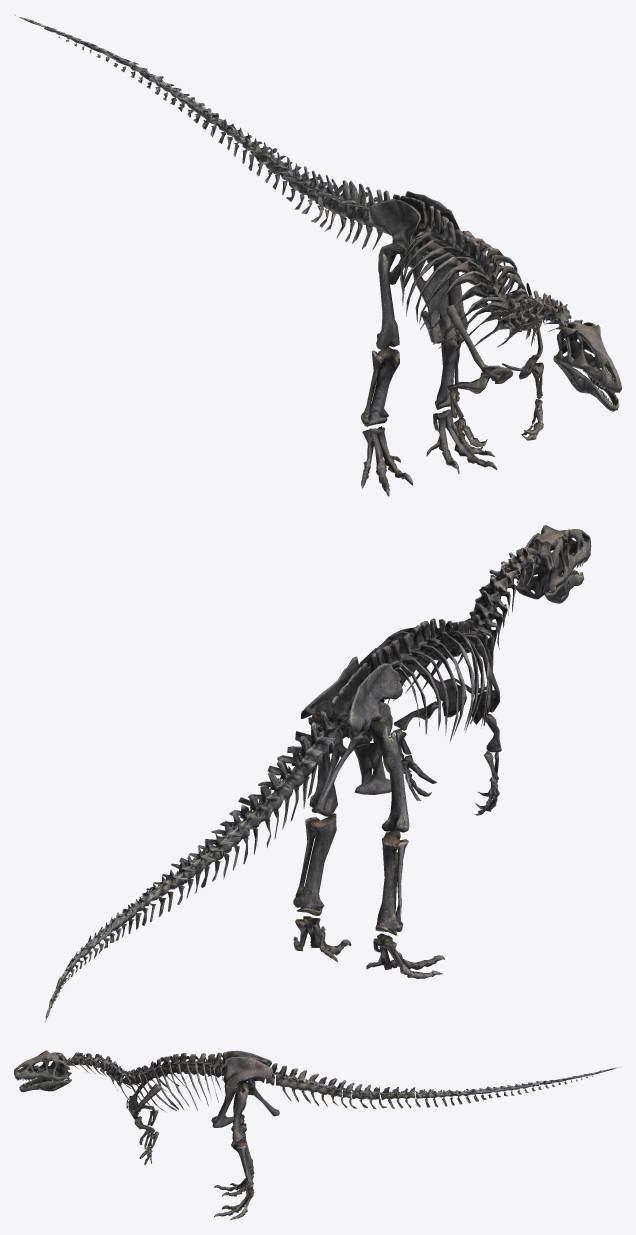
Rendered from dino.glb.
3 renders of one model, top to bottom at view 1: azimuth 30°, elevation 25°; view 2: azimuth 150°, elevation 25°; view 3: azimuth 270°, elevation 25°, orthographic. The views are drawn at different scales.
Visible parts, largest first — view 1: Object_4, Object_3, Object_9, Object_2, Object_7, Object_13; view 2: Object_4, Object_9, Object_3, Object_2, Object_7, Object_13; view 3: Object_9, Object_4, Object_3, Object_2, Object_7, Object_13.
Part boxes in pixels (x1=…): Object_4: x1=361, y1=242, x2=543, y2=496; Object_3: x1=400, y1=205, x2=531, y2=350; Object_9: x1=14, y1=14, x2=391, y2=249; Object_2: x1=368, y1=191, x2=459, y2=343; Object_7: x1=553, y1=319, x2=621, y2=411; Object_13: x1=497, y1=290, x2=571, y2=347; Object_4: x1=293, y1=662, x2=501, y2=978; Object_9: x1=44, y1=710, x2=340, y2=1021; Object_3: x1=358, y1=618, x2=494, y2=741; Object_2: x1=300, y1=656, x2=402, y2=814; Object_7: x1=515, y1=525, x2=591, y2=603; Object_13: x1=454, y1=546, x2=539, y2=670; Object_9: x1=266, y1=1063, x2=621, y2=1109; Object_4: x1=126, y1=1080, x2=254, y2=1220; Object_3: x1=122, y1=1052, x2=227, y2=1112; Object_2: x1=211, y1=1050, x2=279, y2=1127; Object_7: x1=14, y1=1050, x2=71, y2=1092; Object_13: x1=67, y1=1052, x2=131, y2=1100.
Bounding box in the file's own units: 1.34 × 2.62 × 9.57.
Materials: 6 (6 with a texture image).
